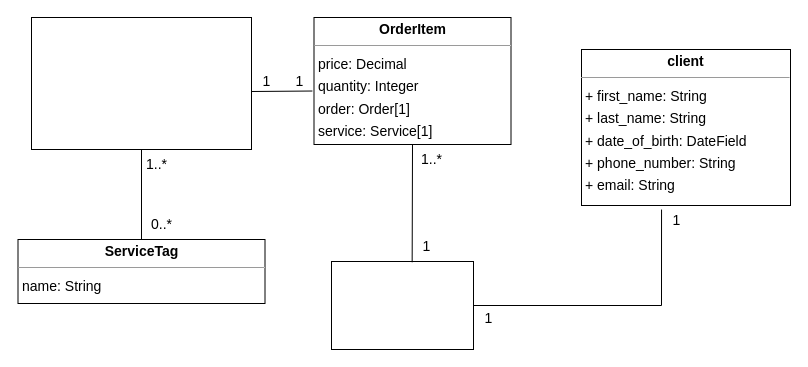
The diagram is 808 pixels wide and 367 high, and some of its shapes have lost their labels. The centre of each missing label's shape, as x and y in pixels:
"Order + created: Datefield + client: Client[1]" belongs at [402,305].
"Service name: String price: Decimal about: String image: String" belongs at [141,83].
